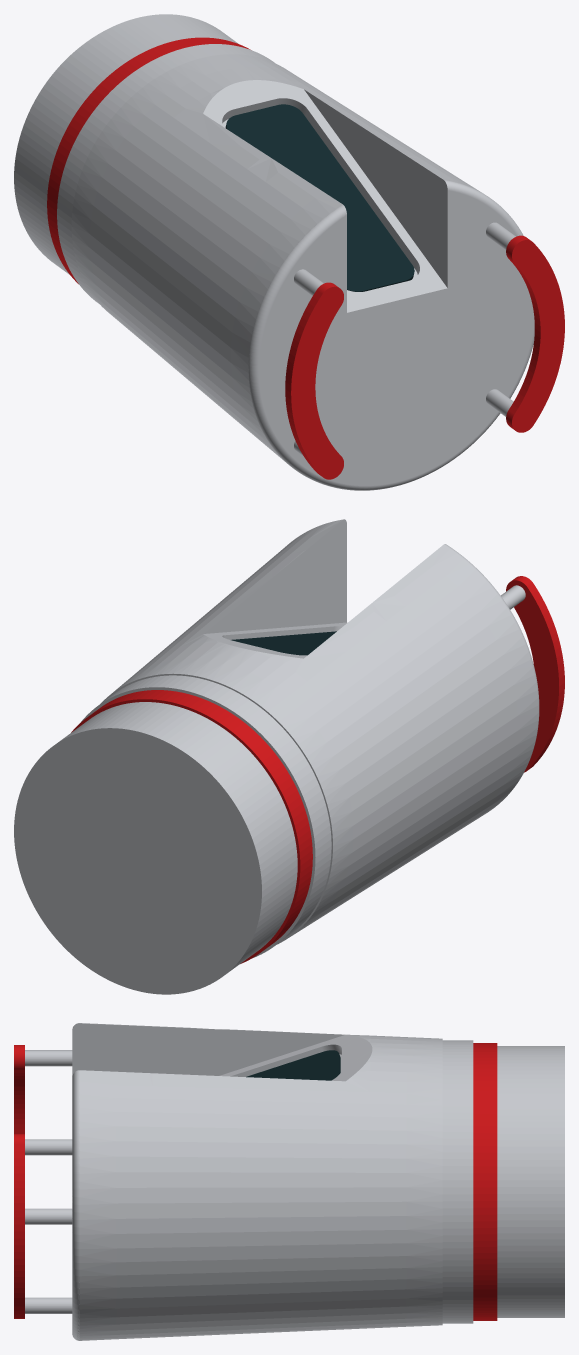
Rendered from riegl_vz.obj.
The picture shows the model from 3 angles, top to bottom: view 1: azimuth 30°, elevation 25°; view 2: azimuth 150°, elevation 25°; view 3: azimuth 270°, elevation 25°; orthographic projection. The views are drawn at different scales.
Parts seen in each view (by area): view 1: body, handles, window, ring, pegs; view 2: body, ring, handles, window; view 3: body, ring, pegs, handles, window.
Boxes of the visible parts, x1,y1,x2,y2 form: body: (14,14,534,490); handles: (285,235,564,479); window: (225,104,414,291); ring: (47,37,250,284); pegs: (294,222,515,456); body: (14,519,539,994); ring: (71,690,312,963); handles: (506,576,564,772); window: (231,631,336,655); body: (72,1023,564,1340); ring: (473,1043,497,1320); pegs: (25,1050,72,1313); handles: (14,1045,24,1318); window: (246,1050,340,1080).
Bounding box in the file's own units: 172 × 166 × 298.
